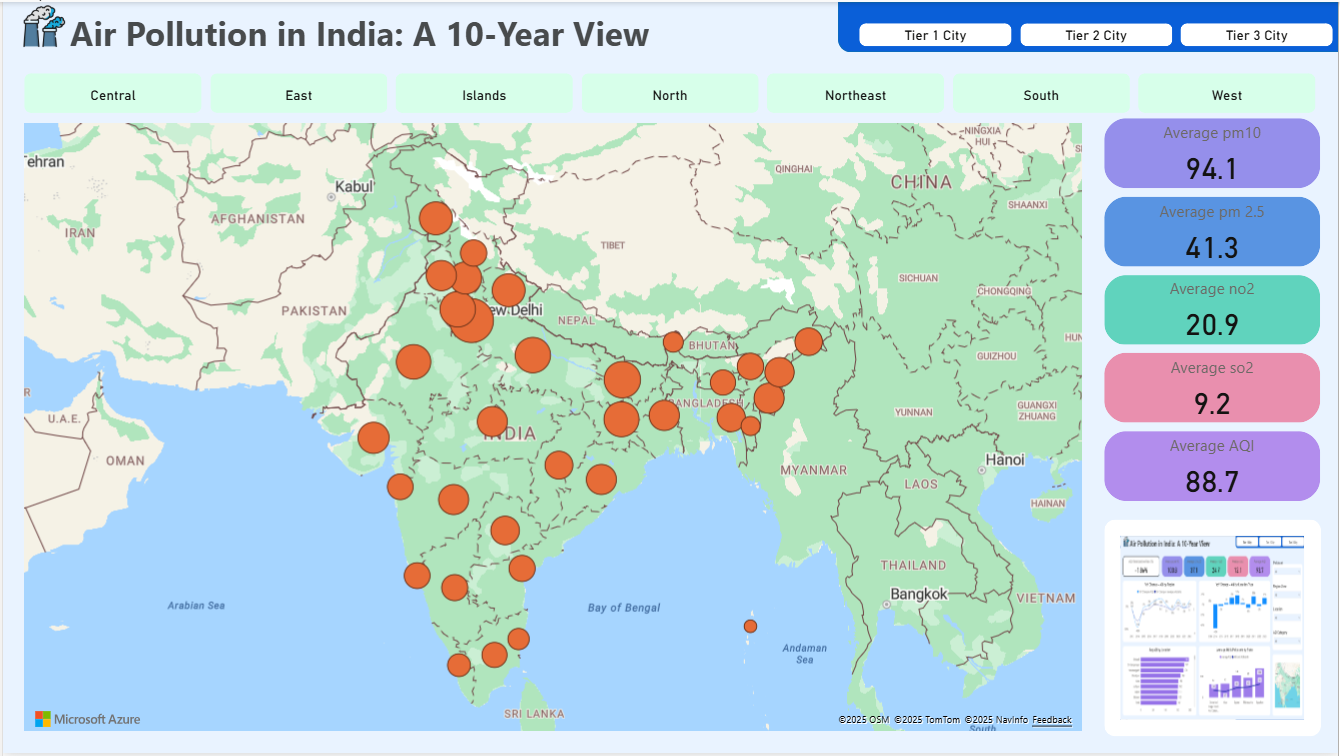

Layout of this report page (visuals, bound fields, positions):
{"tool":"powerbi","page":{"name":"Page 1","canvas":[1280,720],"ordinal":0},"visuals":[{"type":"shape","box":[1056,496,208,208],"z":1000},{"type":"actionButton","box":[1072,512,176,176],"z":3000},{"type":"shape","title":"tiere 1 shape","box":[800,0,480,48],"z":5000},{"type":"cardVisual","title":"titel card","fields":{"Data":["polution data.Report title"]},"box":[16,0,608,64],"z":10000},{"type":"advancedSlicerVisual","title":"Pollutant","fields":{"Values":["polution data.location_type"]},"box":[816,16,464,32],"z":12000},{"type":"azureMap","title":"map state","fields":{"Category":["polution data.state_ut"],"Size":["polution data.Average AQI"]},"box":[16,112,1024,592],"z":15000},{"type":"advancedSlicerVisual","title":"map region fileter","fields":{"Values":["polution data.region_zone"]},"box":[16,64,1248,48],"z":16000},{"type":"cardVisual","fields":{"Data":["polution data.Average pm10","polution data.Average pm 2.5","polution data.Average no2","polution data.Average so2","polution data.Average AQI"]},"box":[1056,112,208,368],"z":17000}]}

Visuals, with their boxes in screenshot pixels (x1, y1, x2, y2), scaled from the page's 1280x720 canvas onto the 1340x756 screenshot:
shape: (x1=1106, y1=521, x2=1323, y2=739)
actionButton: (x1=1122, y1=538, x2=1306, y2=722)
"tiere 1 shape" shape: (x1=838, y1=0, x2=1339, y2=50)
"titel card" cardVisual: (x1=17, y1=0, x2=653, y2=67)
"Pollutant" advancedSlicerVisual: (x1=854, y1=17, x2=1339, y2=50)
"map state" azureMap: (x1=17, y1=118, x2=1089, y2=739)
"map region fileter" advancedSlicerVisual: (x1=17, y1=67, x2=1323, y2=118)
cardVisual - polution data.Average pm10 x polution data.Average pm 2.5: (x1=1106, y1=118, x2=1323, y2=504)
